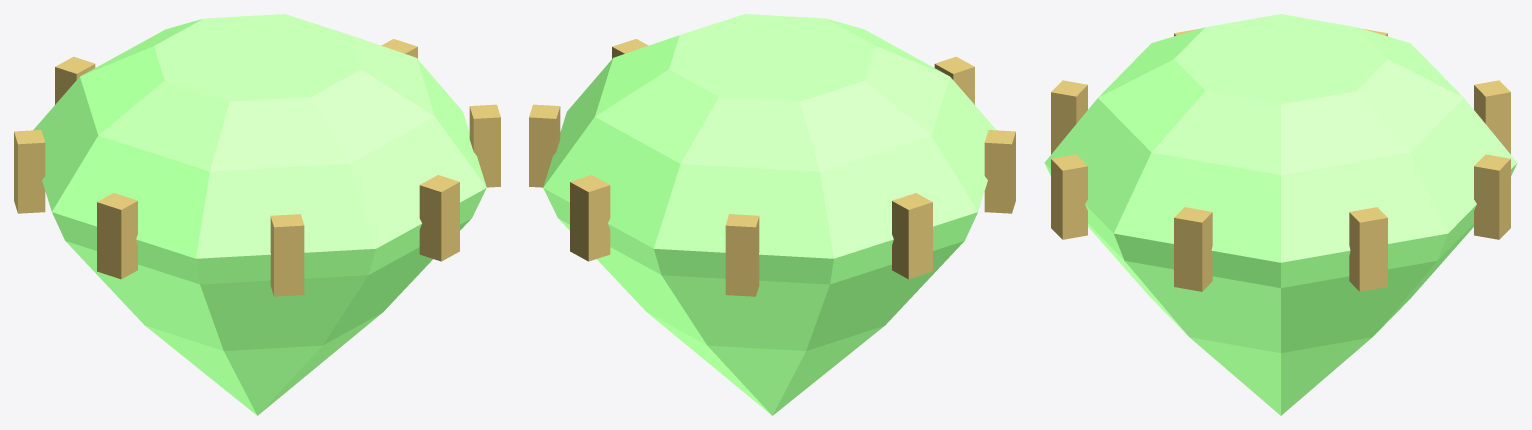
Rendered from pickups-and-collectibles-gem-spinning-verdant-9c97a91f__19857.glb.
3 views of the same model, side by side, from view 1: azimuth 30°, elevation 25°; view 2: azimuth 150°, elevation 25°; view 3: azimuth 270°, elevation 25° (orthographic).
Visible parts, largest first — view 1: body/verdant, body/gold; view 2: body/verdant, body/gold; view 3: body/verdant, body/gold.
Boxes of the visible parts, bbox=[...] form: body/verdant: bbox=[33, 14, 486, 415]; body/gold: bbox=[14, 39, 500, 296]; body/verdant: bbox=[543, 14, 996, 415]; body/gold: bbox=[529, 39, 1015, 296]; body/verdant: bbox=[1044, 14, 1517, 415]; body/gold: bbox=[1051, 28, 1510, 291].
Bounding box in the file's own units: 0.31 × 0.258 × 0.31.
